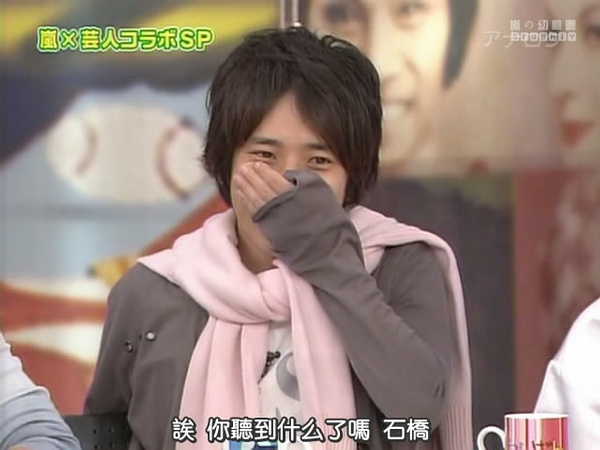face: (232, 112, 346, 251)
